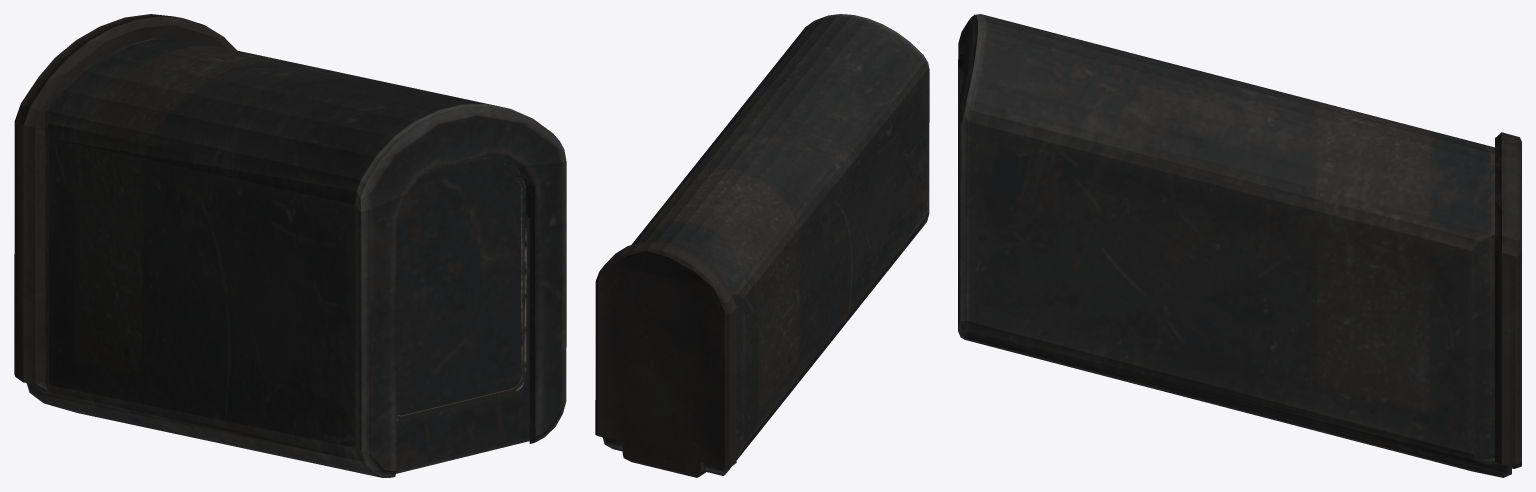
File: Mag9ExtLg.fbx
The picture shows the model from 3 angles, left to right: view 1: azimuth 30°, elevation 25°; view 2: azimuth 150°, elevation 25°; view 3: azimuth 270°, elevation 25°; orthographic projection. The views are drawn at different scales.
Visible parts, largest first — view 1: Mag9ExtLg; view 2: Mag9ExtLg; view 3: Mag9ExtLg.
Part boxes in pixels (x1=…): Mag9ExtLg: x1=14, y1=14, x2=566, y2=477; Mag9ExtLg: x1=595, y1=14, x2=929, y2=477; Mag9ExtLg: x1=958, y1=14, x2=1521, y2=477.
Bounding box in the file's own units: 0.0273 × 0.0594 × 0.0721.
